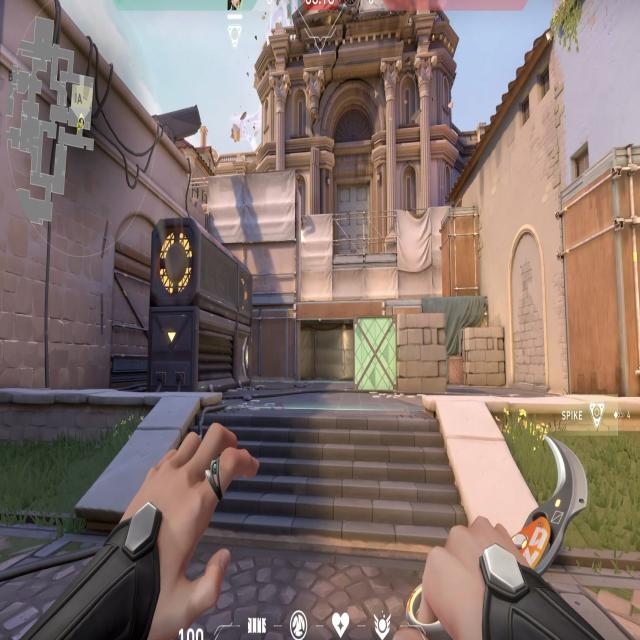A_Heaven_Box: (437, 198, 482, 299)
A_Heaven_Wall: (207, 179, 300, 306)
A_Hell: (281, 306, 397, 382)
A_Site_Box: (352, 314, 448, 395)
